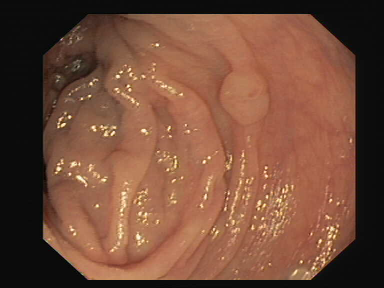polyp: (213, 66, 278, 142)
